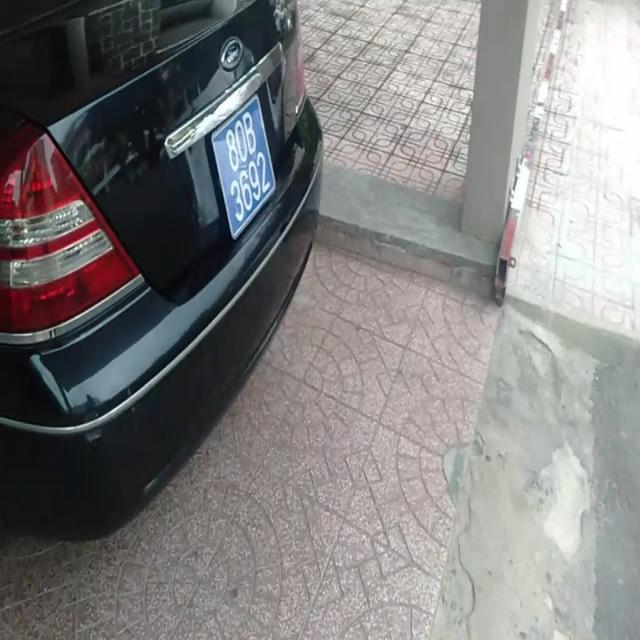bien_xanh: (210, 93, 278, 236)
